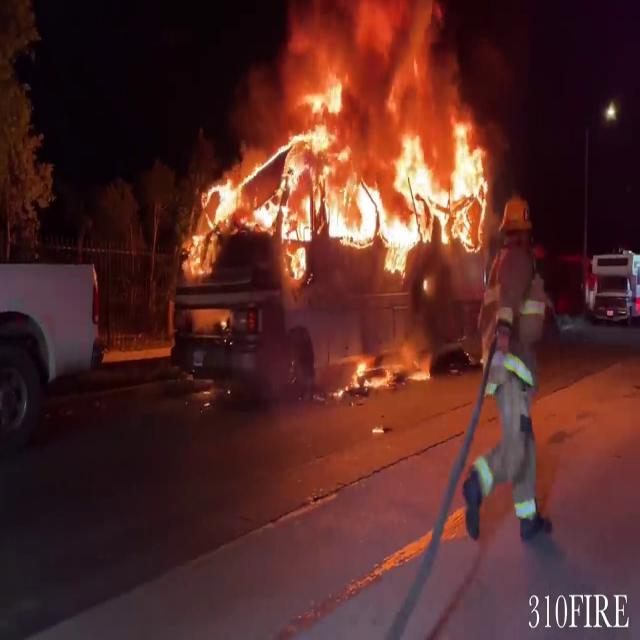Fire: (180, 1, 500, 289), (344, 339, 432, 393)
